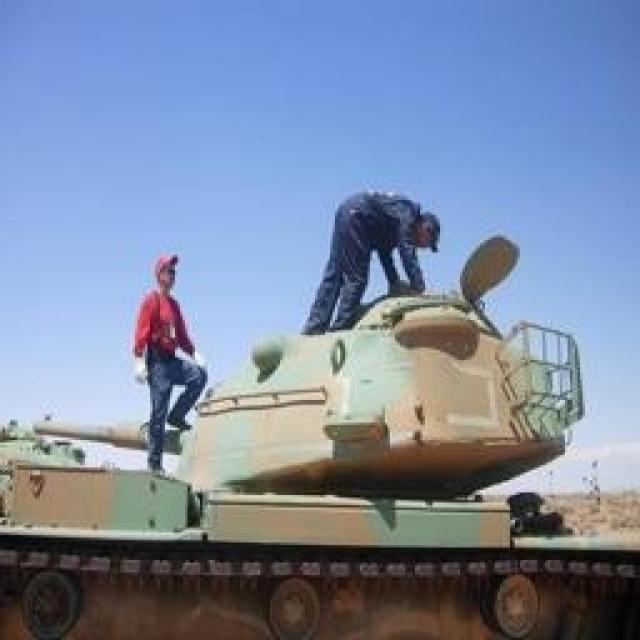Helmet: (318, 167, 412, 290), (127, 284, 205, 382), (148, 232, 202, 297), (412, 192, 447, 267)
